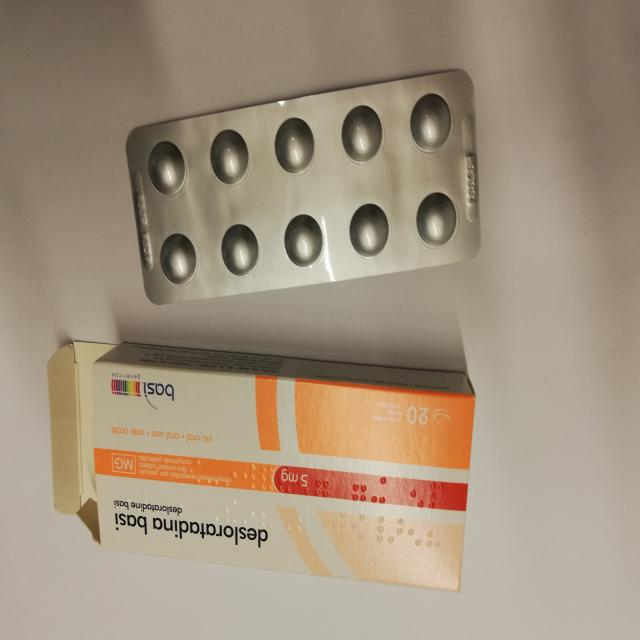Pill: (264, 108, 322, 182), (337, 194, 396, 266), (404, 87, 460, 156), (279, 206, 333, 274), (340, 100, 393, 167), (205, 126, 257, 191), (140, 137, 192, 202), (214, 219, 261, 285), (416, 187, 462, 252), (152, 228, 198, 289)
